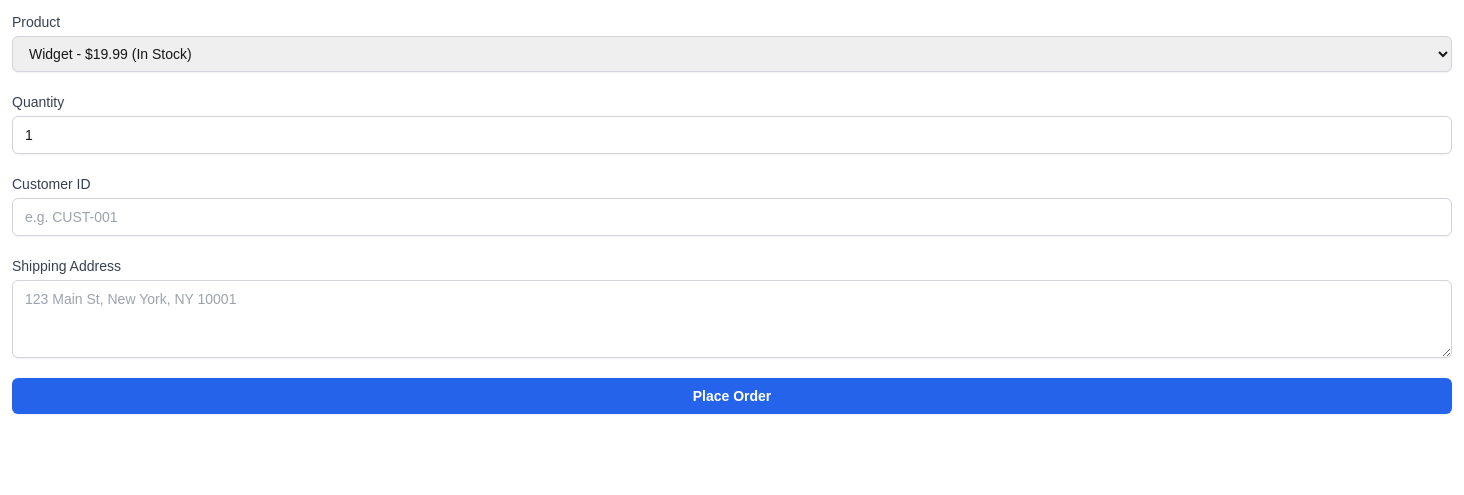
Test case: OrderForm › shows submit error on API failure
The image size is (1464, 495).
Type "CUST-001" into the field labelled "Customer ID".
click(732, 217); type("CUST-001")  # box [12,198,1452,236]
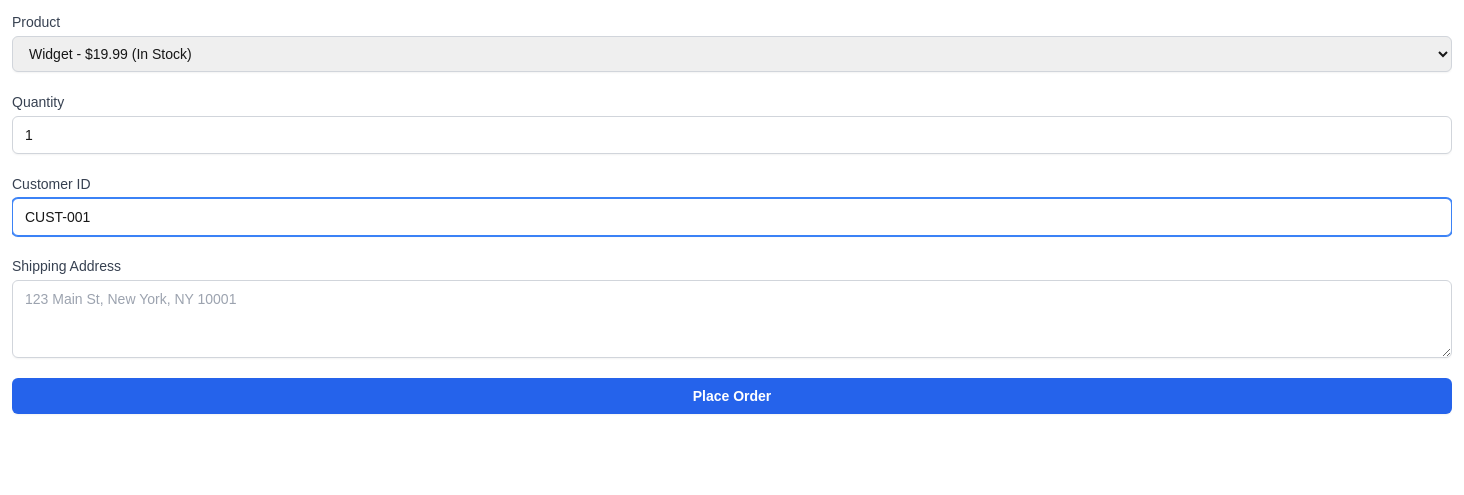
Type "123 Main St" into the text box labelled "Shipping Address".
click(732, 319); type("123 Main St")  # box [12,280,1452,358]
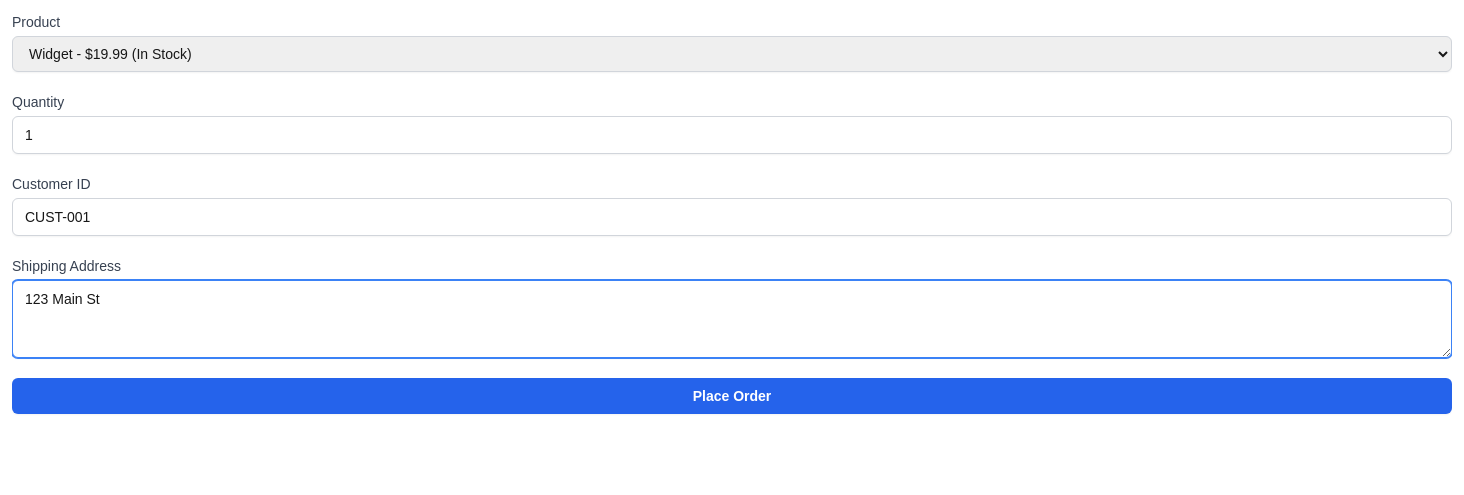
Click the button "Place Order".
click(732, 396)  # box [12,378,1452,414]
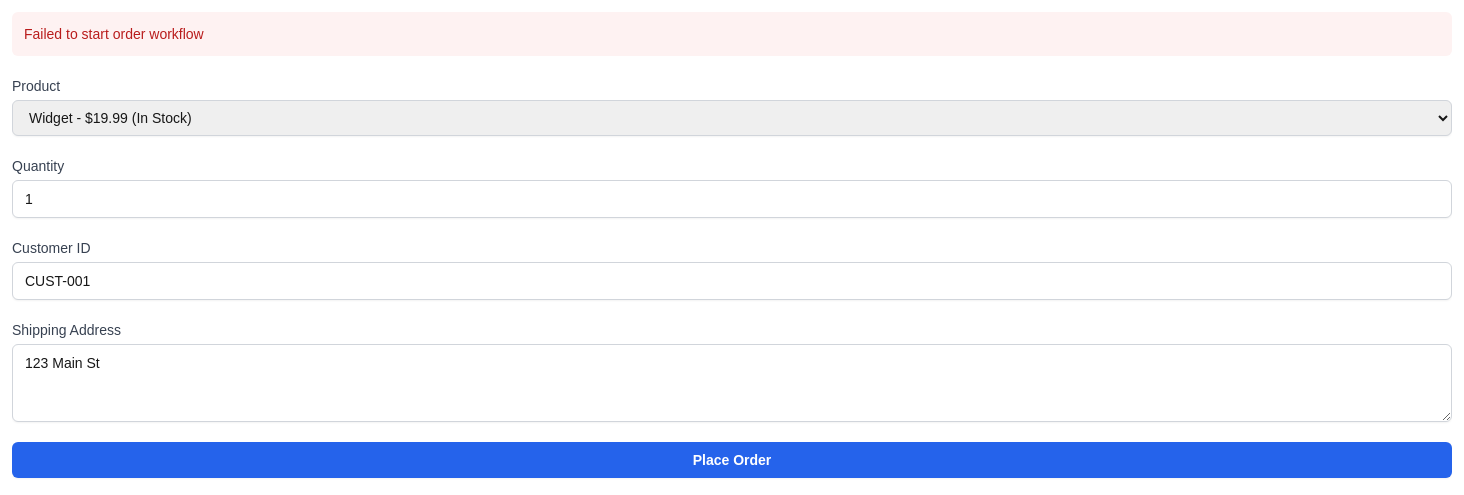
Result: the text "Failed to start order workflow" is shown at [12,12,1452,56]
